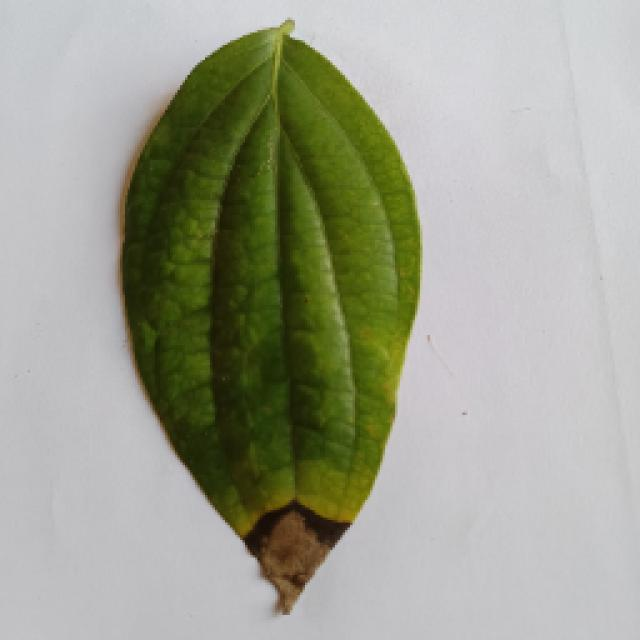footrot: (115, 23, 420, 615)
